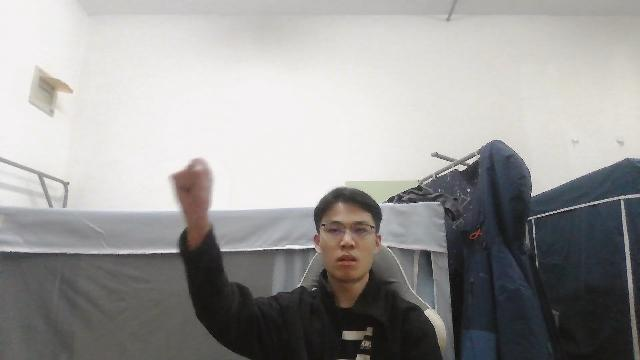ten: (167, 155, 216, 221)
